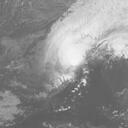cyclone: (61, 43, 84, 69)
